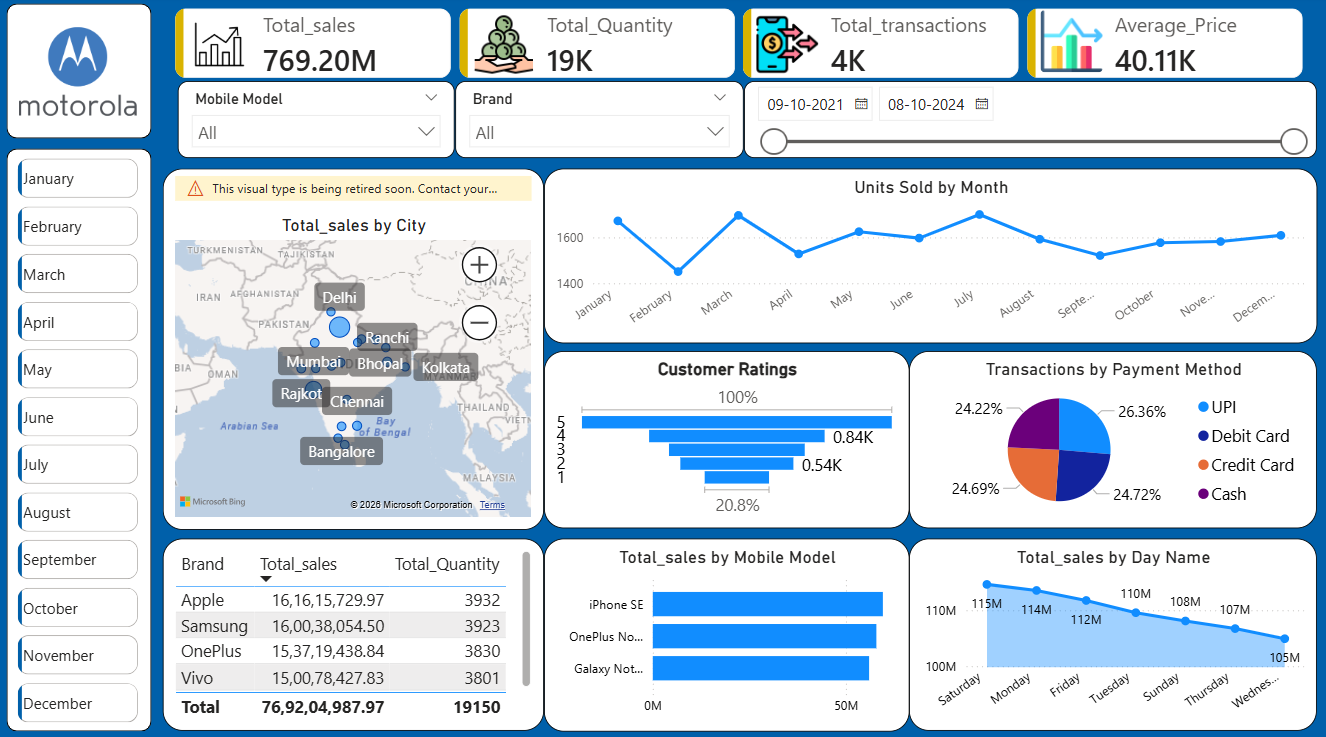

The dashboard page shown, as its layout file describes it:
{"tool":"powerbi","page":{"name":"Page 1","canvas":[1280,720],"ordinal":0},"visuals":[{"type":"shape","box":[7.2,7.2,123.1,130.3],"z":0},{"type":"image","box":[12.1,15.7,113.4,113.4],"z":1000},{"type":"shape","box":[7.2,147.2,123.1,562.2],"z":2000},{"type":"advancedSlicerVisual","fields":{"Values":["motorole Project.Date.Variation.Date Hierarchy.Month"]},"box":[7.2,156.8,126.7,552.5],"z":3000},{"type":"cardVisual","fields":{"Data":["motorole Project.Total_sales","motorole Project.Total_Quantity","motorole Project.Total_transactions","motorole Project.Average_Price"]},"box":[143.6,0,1128,92.9],"z":4000},{"type":"lineChart","fields":{"Y":["Sum(motorole Project.Units Sold)"],"Category":["motorole Project.Date.Variation.Date Hierarchy.Year","motorole Project.Date.Variation.Date Hierarchy.Quarter","motorole Project.Date.Variation.Date Hierarchy.Month","motorole Project.Date.Variation.Date Hierarchy.Day"]},"box":[535.7,166.5,735.9,168.9],"z":6000},{"type":"map","fields":{"Size":["motorole Project.Total_sales"],"Category":["motorole Project.City"]},"box":[143.6,167.7,382.4,346.2],"z":6500},{"type":"clusteredBarChart","fields":{"Category":["motorole Project.Mobile Model"],"Y":["motorole Project.Total_sales"]},"box":[535.7,523.6,342.6,187],"z":7000},{"type":"pieChart","title":"Transactions by Payment Method","fields":{"Y":["motorole Project.Total_transactions"],"Category":["motorole Project.Payment Method"]},"box":[889.1,342.6,382.4,171.3],"z":8000},{"type":"funnel","title":"Customer Ratings","fields":{"Category":["motorole Project.Customer Ratings"],"Y":["CountNonNull(motorole Project.Customer Ratings)"]},"box":[535.7,341.4,342.6,172.5],"z":9000},{"type":"areaChart","fields":{"Category":["motorole Project.Day Name"],"Y":["motorole Project.Total_sales"]},"box":[889.1,524.8,382.4,185.8],"z":10000},{"type":"tableEx","fields":{"Values":["motorole Project.Brand","motorole Project.Total_sales","motorole Project.Total_Quantity"]},"box":[143.6,523.6,382.4,185.8],"z":11000},{"type":"slicer","fields":{"Values":["motorole Project.Mobile Model"]},"box":[143.6,91.7,275.1,72.4],"z":12000},{"type":"slicer","fields":{"Values":["motorole Project.Brand"]},"box":[425.9,91.7,275.1,72.4],"z":13000},{"type":"slicer","fields":{"Values":["motorole Project.Date"]},"box":[708.2,91.7,563.4,73.6],"z":14000}]}

Visuals, with their boxes in screenshot pixels (x1, y1, x2, y2), scaled from the page's 1280x720 canvas onto the 1326x737 screenshot:
shape: (left=7, top=7, right=135, bottom=141)
image: (left=13, top=16, right=130, bottom=132)
shape: (left=7, top=151, right=135, bottom=726)
advancedSlicerVisual - motorole Project.Date.Variation.Date Hierarchy.Month: (left=7, top=161, right=139, bottom=726)
cardVisual - motorole Project.Total_sales x motorole Project.Total_Quantity: (left=149, top=0, right=1317, bottom=95)
lineChart - Sum(motorole Project.Units Sold) x motorole Project.Date.Variation.Date Hierarchy.Year: (left=555, top=170, right=1317, bottom=343)
map - motorole Project.Total_sales x motorole Project.City: (left=149, top=172, right=545, bottom=526)
clusteredBarChart - motorole Project.Mobile Model x motorole Project.Total_sales: (left=555, top=536, right=910, bottom=727)
"Transactions by Payment Method" pieChart: (left=921, top=351, right=1317, bottom=526)
"Customer Ratings" funnel: (left=555, top=349, right=910, bottom=526)
areaChart - motorole Project.Day Name x motorole Project.Total_sales: (left=921, top=537, right=1317, bottom=727)
tableEx - motorole Project.Brand x motorole Project.Total_sales: (left=149, top=536, right=545, bottom=726)
slicer - motorole Project.Mobile Model: (left=149, top=94, right=434, bottom=168)
slicer - motorole Project.Brand: (left=441, top=94, right=726, bottom=168)
slicer - motorole Project.Date: (left=734, top=94, right=1317, bottom=169)
